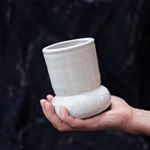cups: (38, 34, 115, 121)
